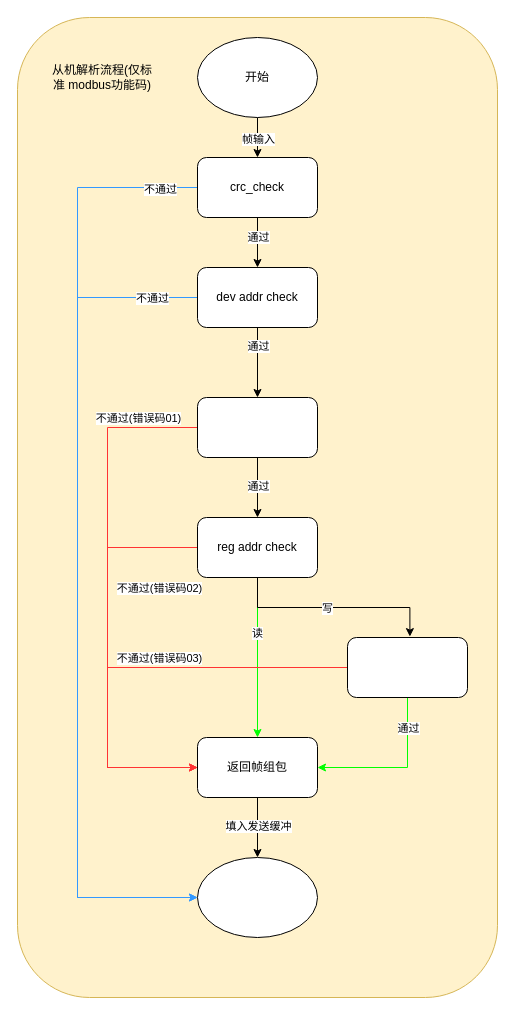
The diagram is 515 pixels wide and 1015 high, and some of its shapes have lost their labels. Here are the shapes that lost their labels. From the top down, the box of each, then its label:
(196, 396, 318, 458): func code check
(346, 636, 468, 698): reg value check
(196, 856, 318, 938): end
